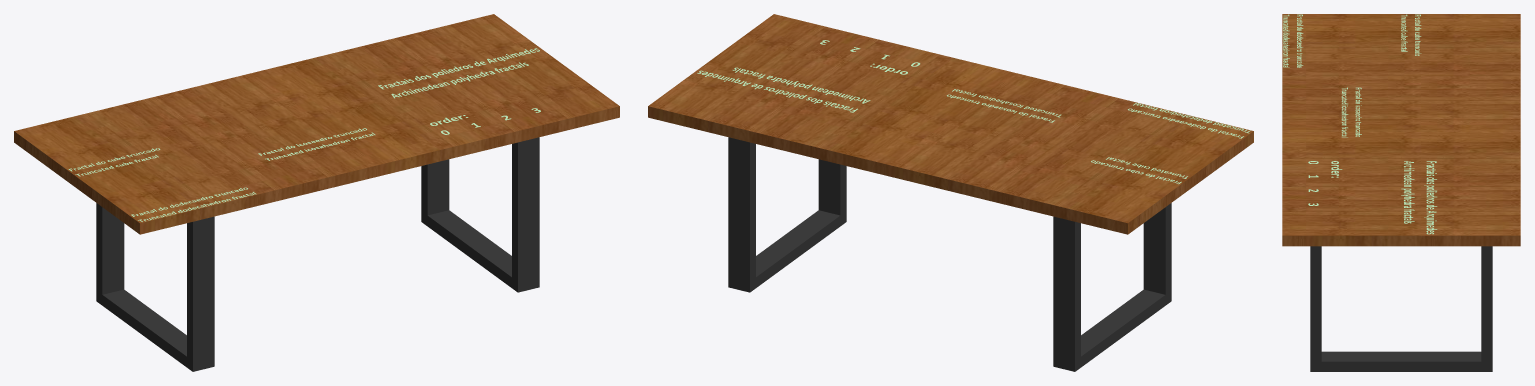
Rendered from fractal_arquim3.glb.
3 views of the same model, side by side, from view 1: azimuth 30°, elevation 25°; view 2: azimuth 150°, elevation 25°; view 3: azimuth 270°, elevation 25° (orthographic). The views are drawn at different scales.
Parts seen in each view (by area): view 1: object 1, Composant#1 (×2), Fractais dos pol#2, Fractal do dodec; view 2: object 1, Composant#1 (×2), Fractais dos pol#2, Fractal do dodec, Fractal do icosa#1; view 3: object 1, Composant#1, Fractais dos pol#2, Fractal do dodec, Fractal do icosa#1, Fractal do cubo.
Boxes of the visible parts, bbox=[...] form: object 1: bbox=[14, 14, 619, 234]; Composant#1 (×2): bbox=[96, 137, 539, 371]; Fractais dos pol#2: bbox=[378, 48, 539, 98]; Fractal do dodec: bbox=[131, 187, 256, 221]; object 1: bbox=[648, 14, 1253, 234]; Composant#1 (×2): bbox=[728, 137, 1171, 371]; Fractais dos pol#2: bbox=[697, 67, 870, 112]; Fractal do dodec: bbox=[1128, 103, 1250, 138]; Fractal do icosa#1: bbox=[947, 89, 1061, 122]; object 1: bbox=[1282, 14, 1520, 246]; Composant#1: bbox=[1310, 246, 1492, 371]; Fractais dos pol#2: bbox=[1401, 161, 1437, 234]; Fractal do dodec: bbox=[1283, 14, 1303, 67]; Fractal do icosa#1: bbox=[1341, 87, 1361, 137]; Fractal do cubo: bbox=[1401, 14, 1421, 55].
Bounding box in the file's own units: 2.2 × 0.7711 × 1.
Materials: 3 (1 with a texture image).
